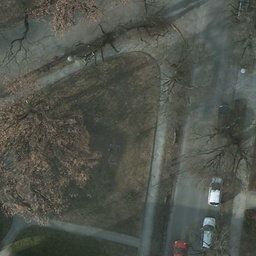car: (199, 216, 216, 248), (208, 173, 222, 207), (172, 238, 186, 256)
